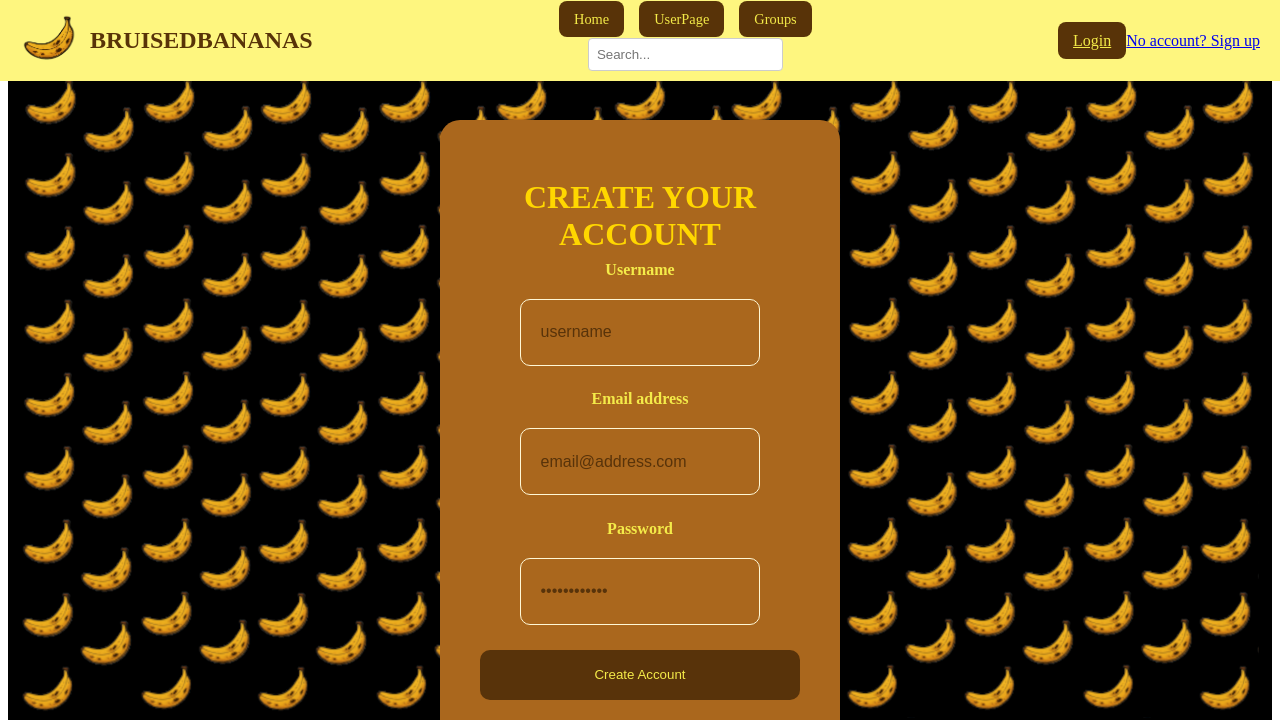
Test: Register component (new tests) › shows backend validation error message
In the field with placeholder "username": [644, 332] box [538,306,750,358], type "existingUser"
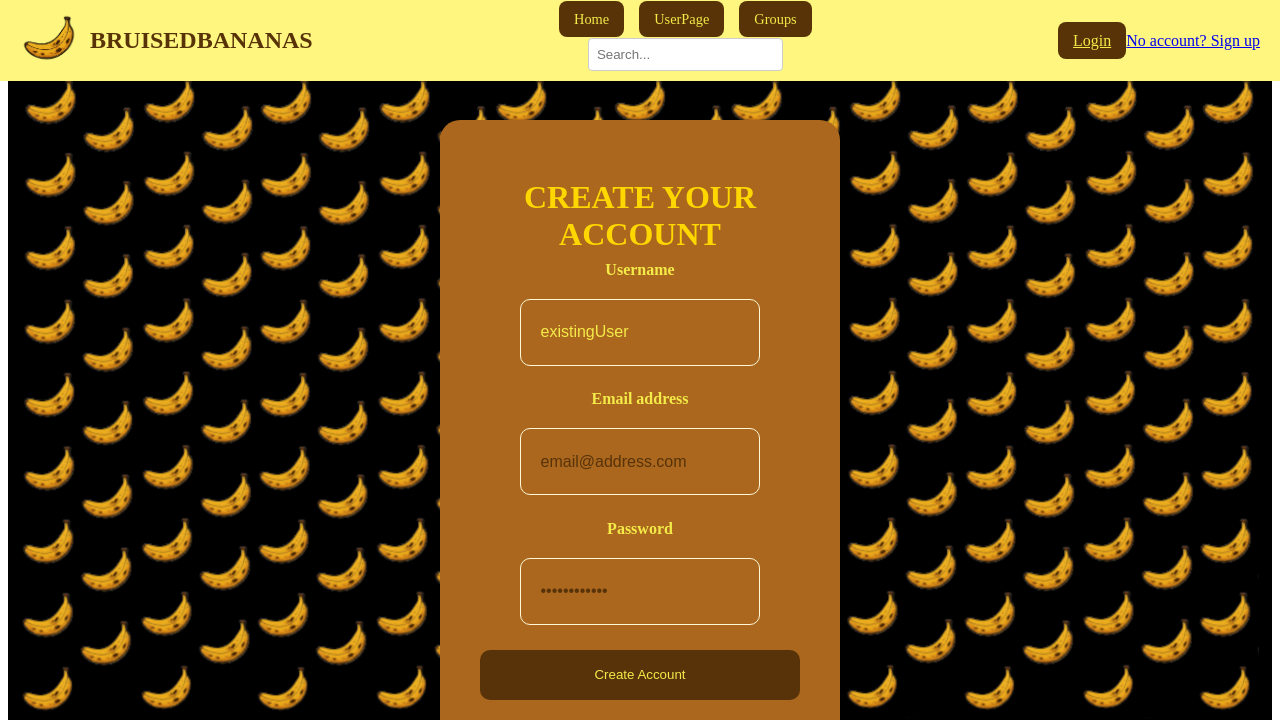
In the field with placeholder "email@address.com": [644, 462] box [538,436,750,488], type "test@test.com"
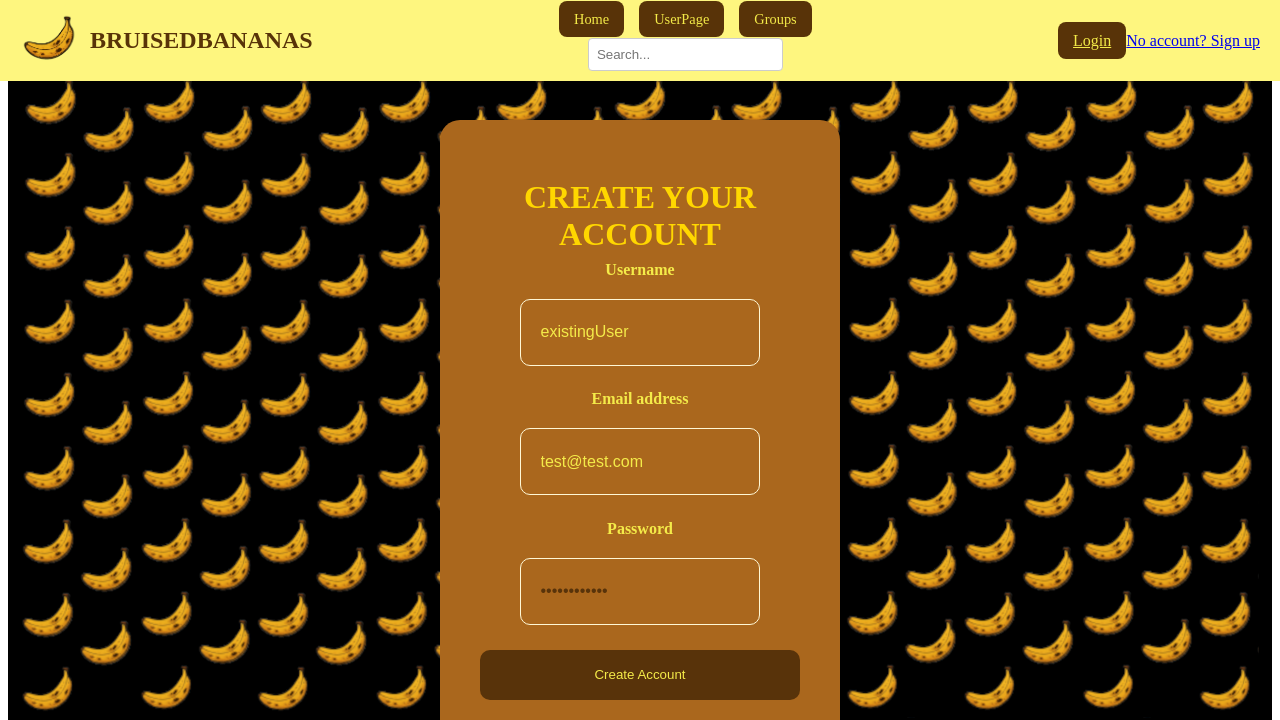
In the password field with placeholder "••••••••••••": [644, 592] box [538,566,750,618], type "password"
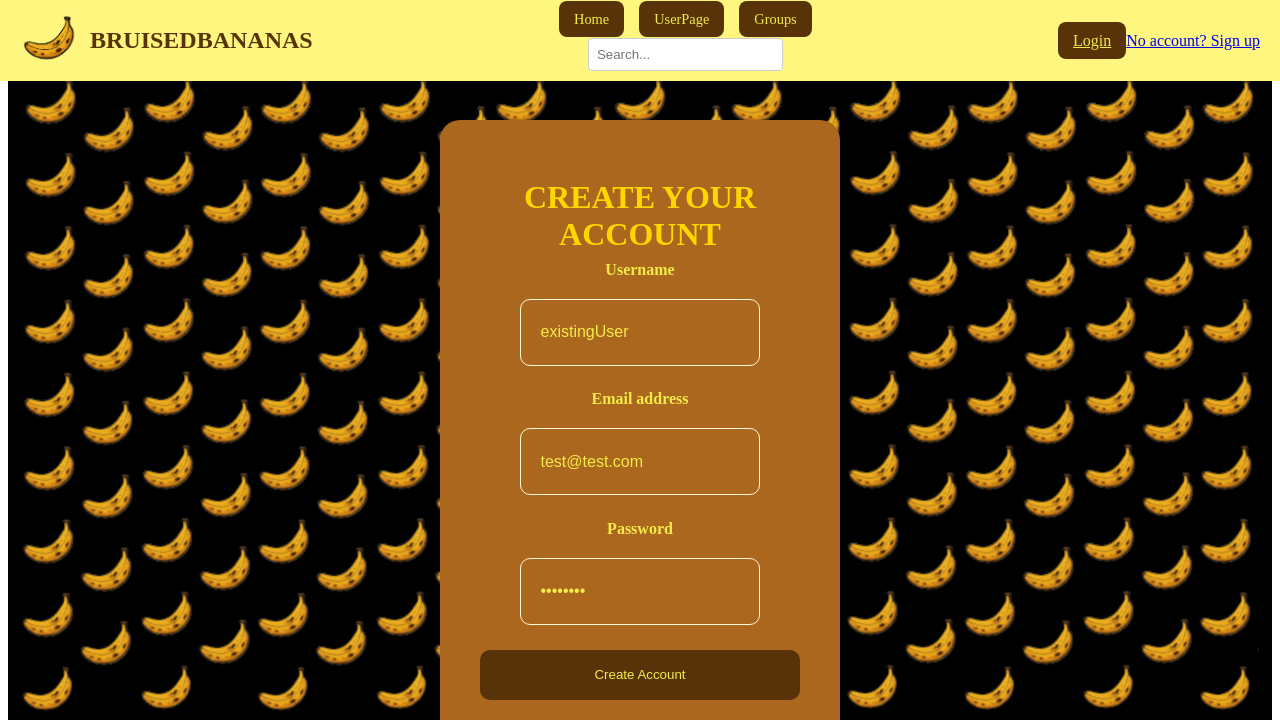
Click the button "Create Account": [640, 675] box [480,650,800,700]
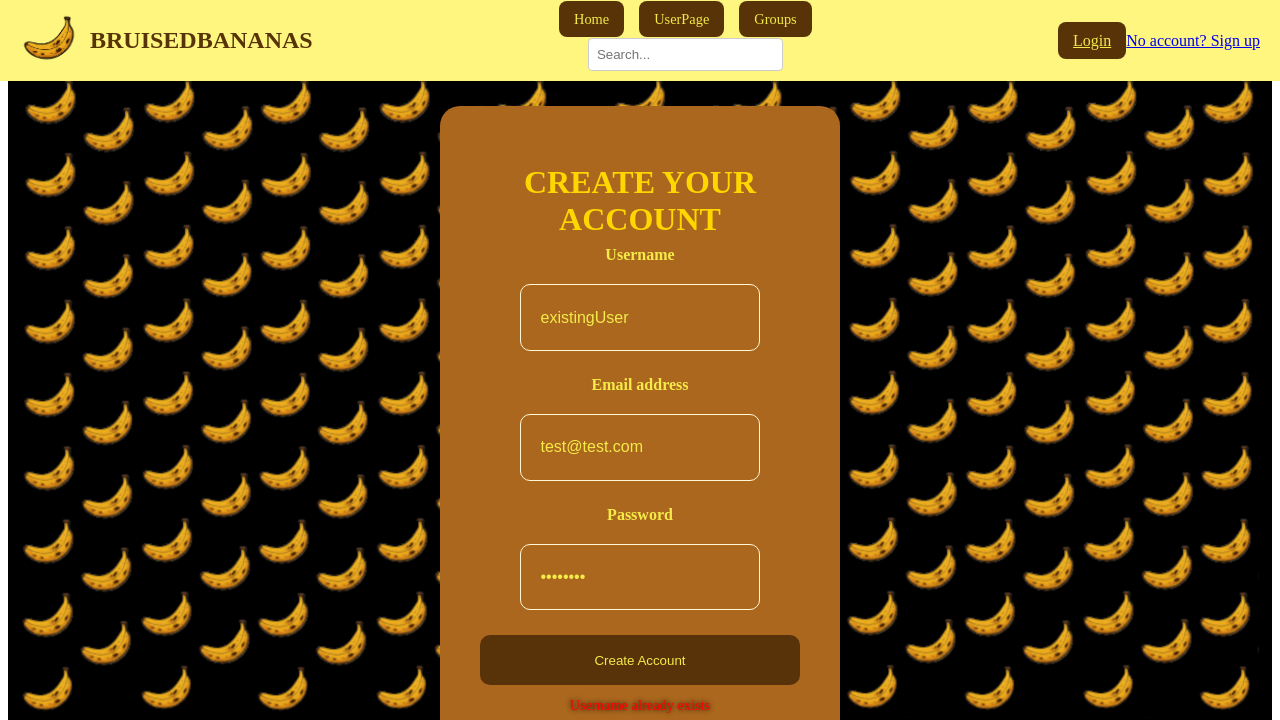
Expected: the text "Username already exists" is shown, [570,697,710,714]
